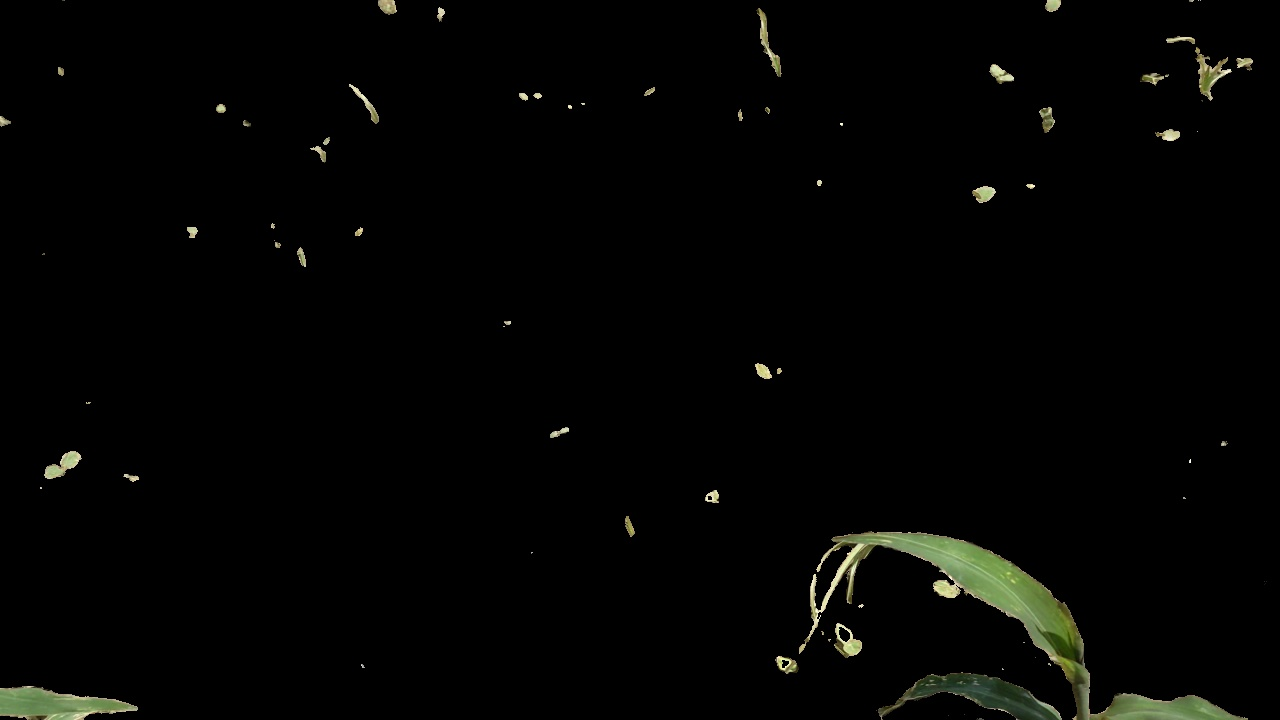crop: (796, 512, 1266, 720)
weed: (39, 447, 85, 488), (835, 619, 871, 654)
